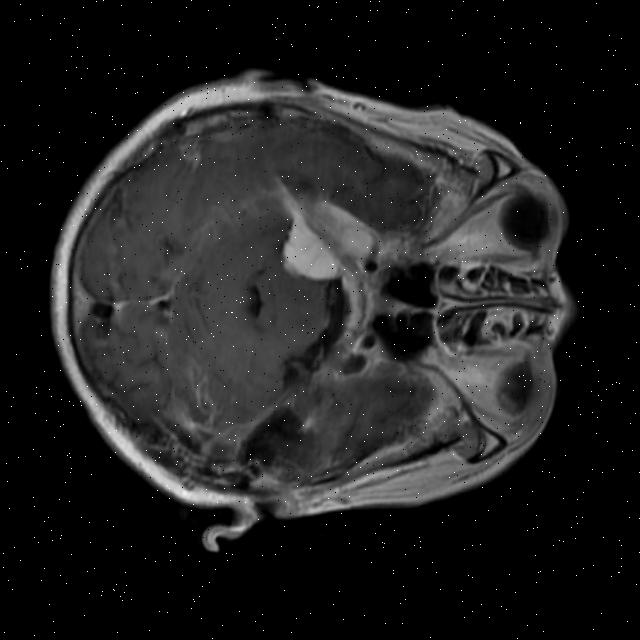Meningioma: (258, 174, 381, 291)
